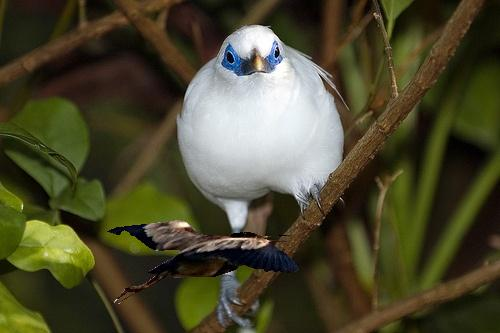tampered: (108, 221, 299, 304)
